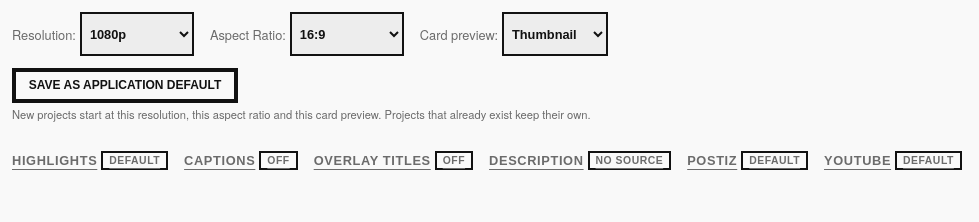
Test case: ProjectSettingsMenu › names the setting that failed to save, and puts the value back
Select "9:16" in the dropdown labelled "Aspect Ratio:" at (347, 34), box [290, 12, 404, 56]
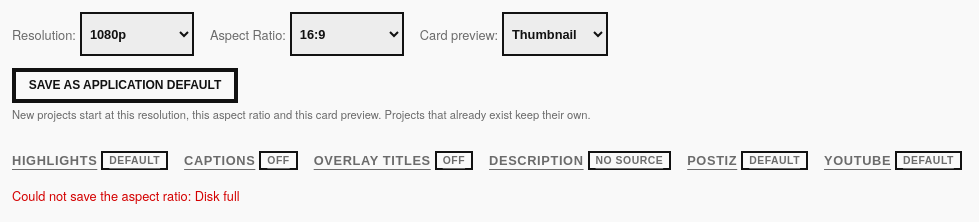
Expected: the message shows "Could not save the aspect ratio", [12, 186, 240, 206]
Expected: the message shows "Disk full", [195, 186, 240, 206]
